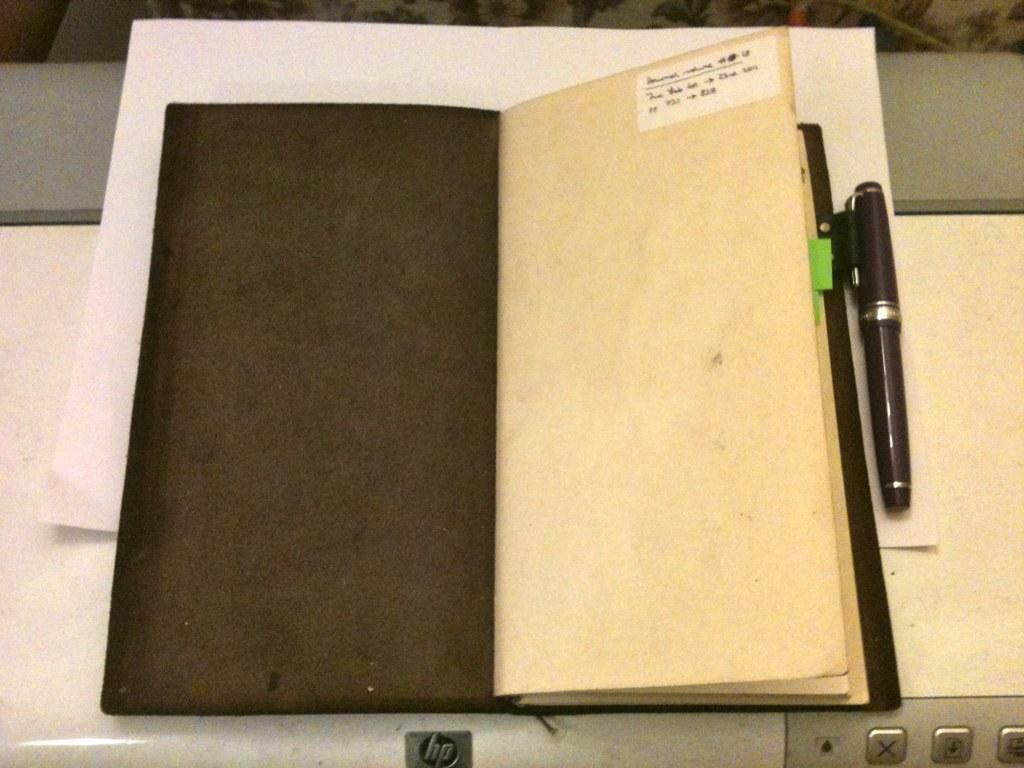pen: (845, 174, 910, 515)
